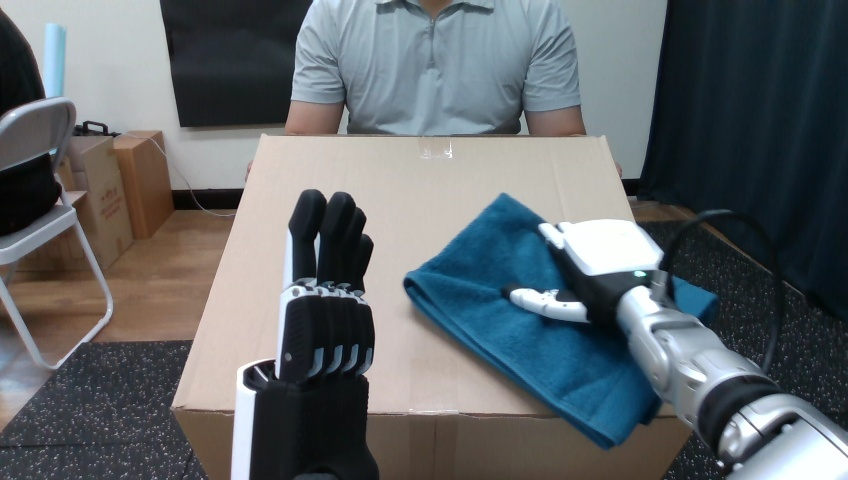left robot hand: (231, 189, 378, 479), (674, 224, 772, 363), (770, 284, 847, 429)
